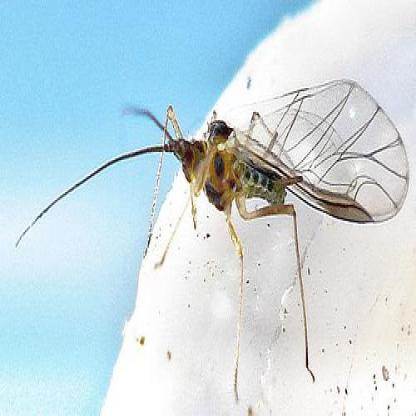aphid: (13, 79, 411, 395)
